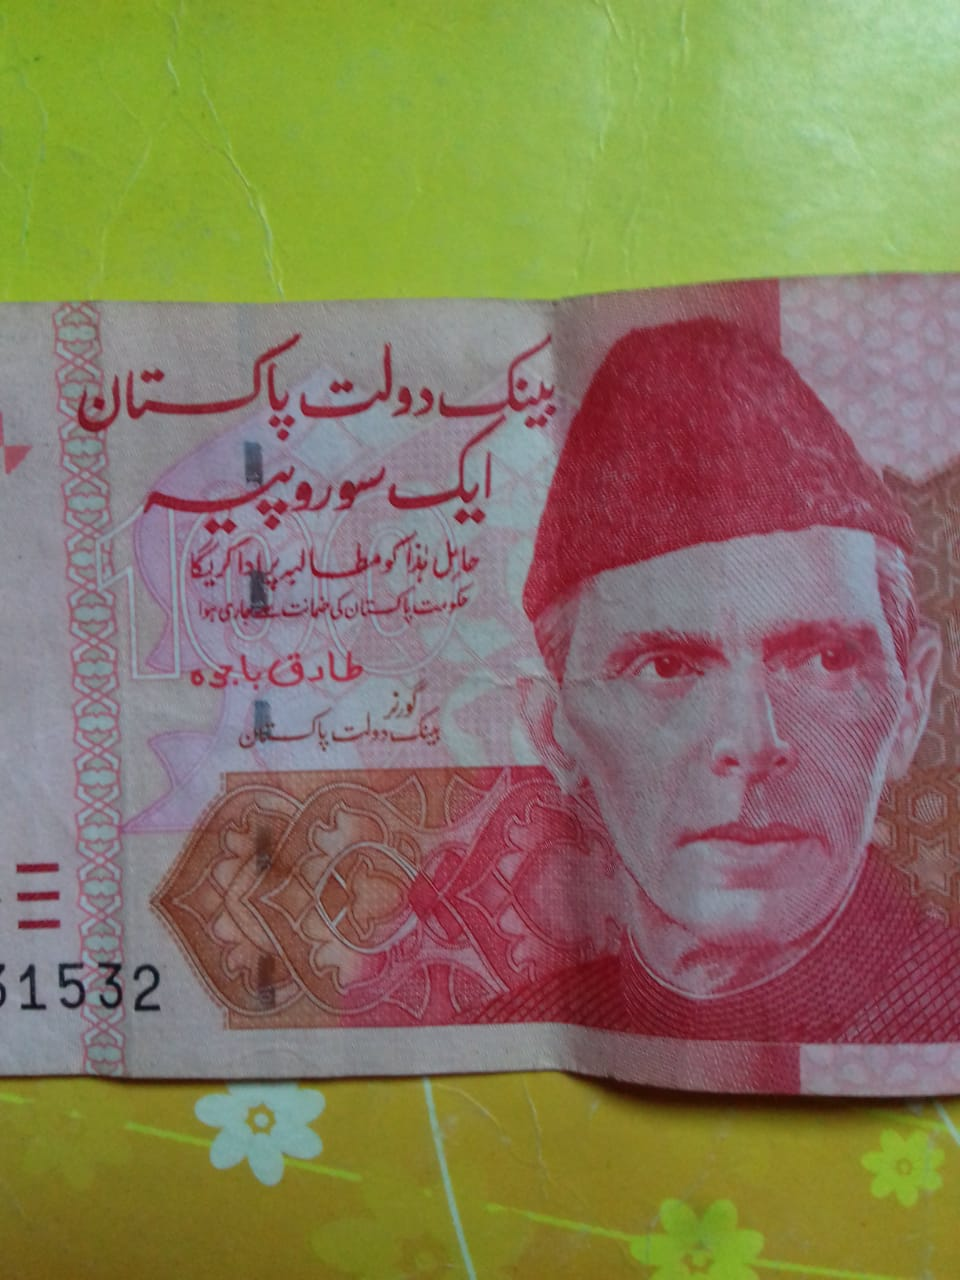100 rupee: (14, 264, 959, 1168)
